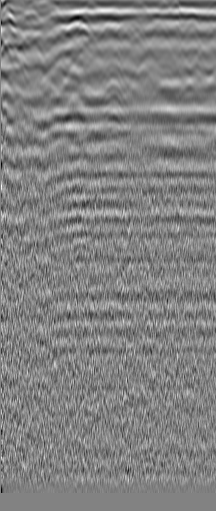오수: (21, 9, 41, 29)
우수: (182, 16, 202, 36)
